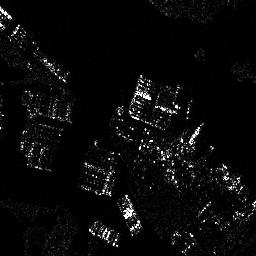ship: (116, 195, 143, 237)
